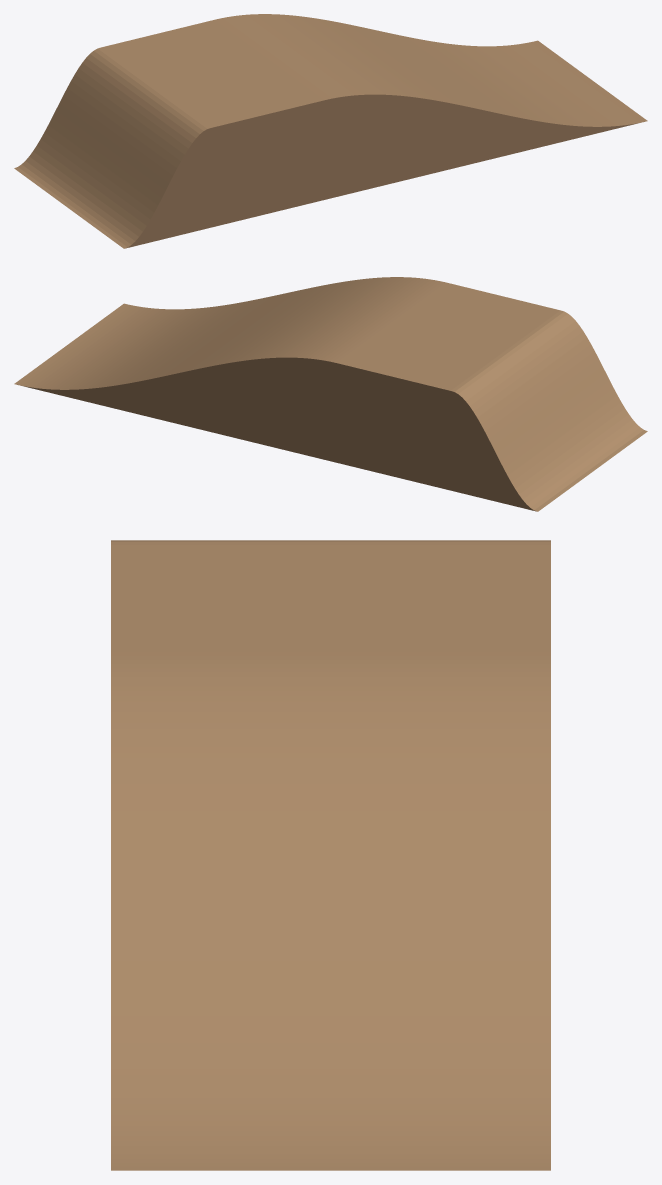
The model's file is SC_Prop_JumpLanding.fbx.
3 views of the same model, one above another, from view 1: azimuth 30°, elevation 25°; view 2: azimuth 150°, elevation 25°; view 3: azimuth 270°, elevation 25° (orthographic). The views are drawn at different scales.
Visible parts, largest first — view 1: SC_Prop_JumpLanding; view 2: SC_Prop_JumpLanding; view 3: SC_Prop_JumpLanding.
Part boxes in pixels (bbox=[...]): SC_Prop_JumpLanding: bbox=[14, 14, 647, 248]; SC_Prop_JumpLanding: bbox=[14, 277, 647, 511]; SC_Prop_JumpLanding: bbox=[111, 540, 550, 1170].
Bounding box in the file's own units: 5.5 × 1 × 2.
